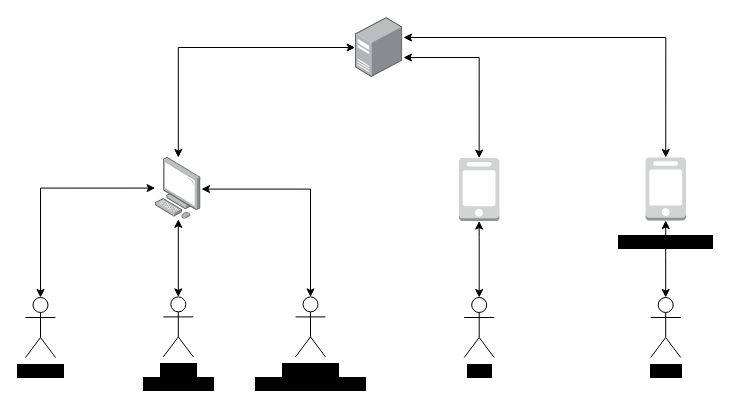
The diagram is 730 pixels wide and 410 high, and some of its shapes have lost their labels. Here are the shapes that lost their labels. From the top down, the centre of each, then its label:
At point (378, 47): "Backend (server)".
At point (178, 188): "Web app".
At point (478, 189): "User mobile app".
